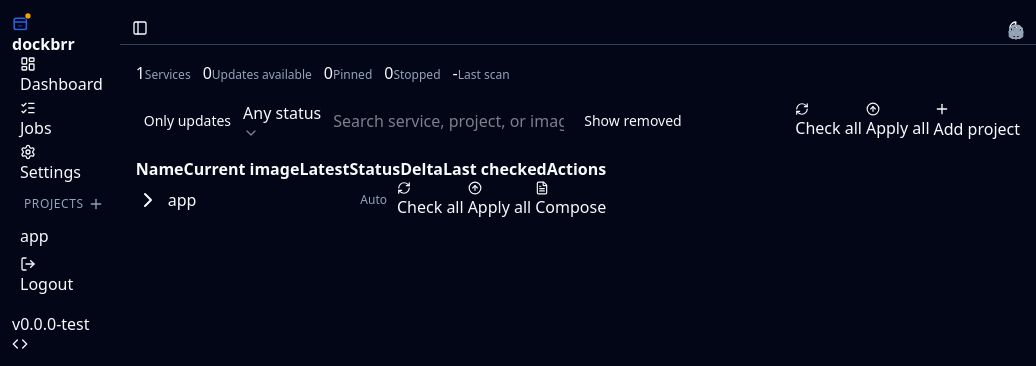
Test: service name links to the service detail page
The width and height of the screenshot is (1036, 366).
Click the button "app" at (166, 200), box [136,188,196,212]
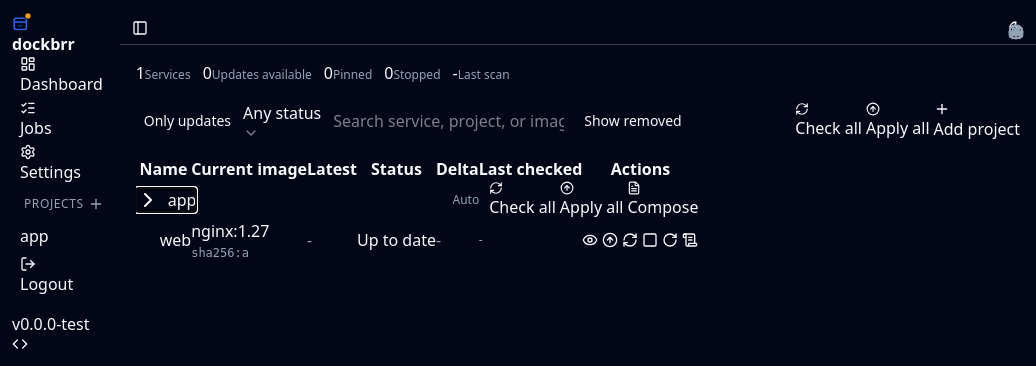
Result: the link "web" is shown at [160,228,191,252]
